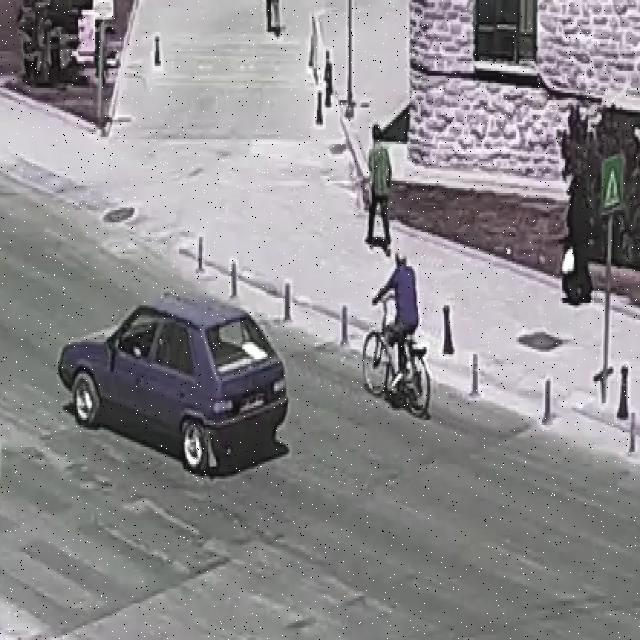Car: (52, 287, 310, 482)
Cycle: (347, 235, 443, 418)
